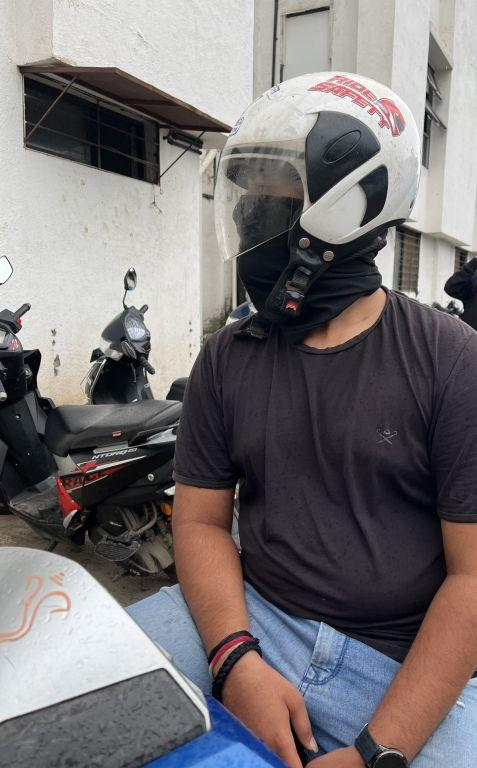helmet: (197, 52, 433, 276)
